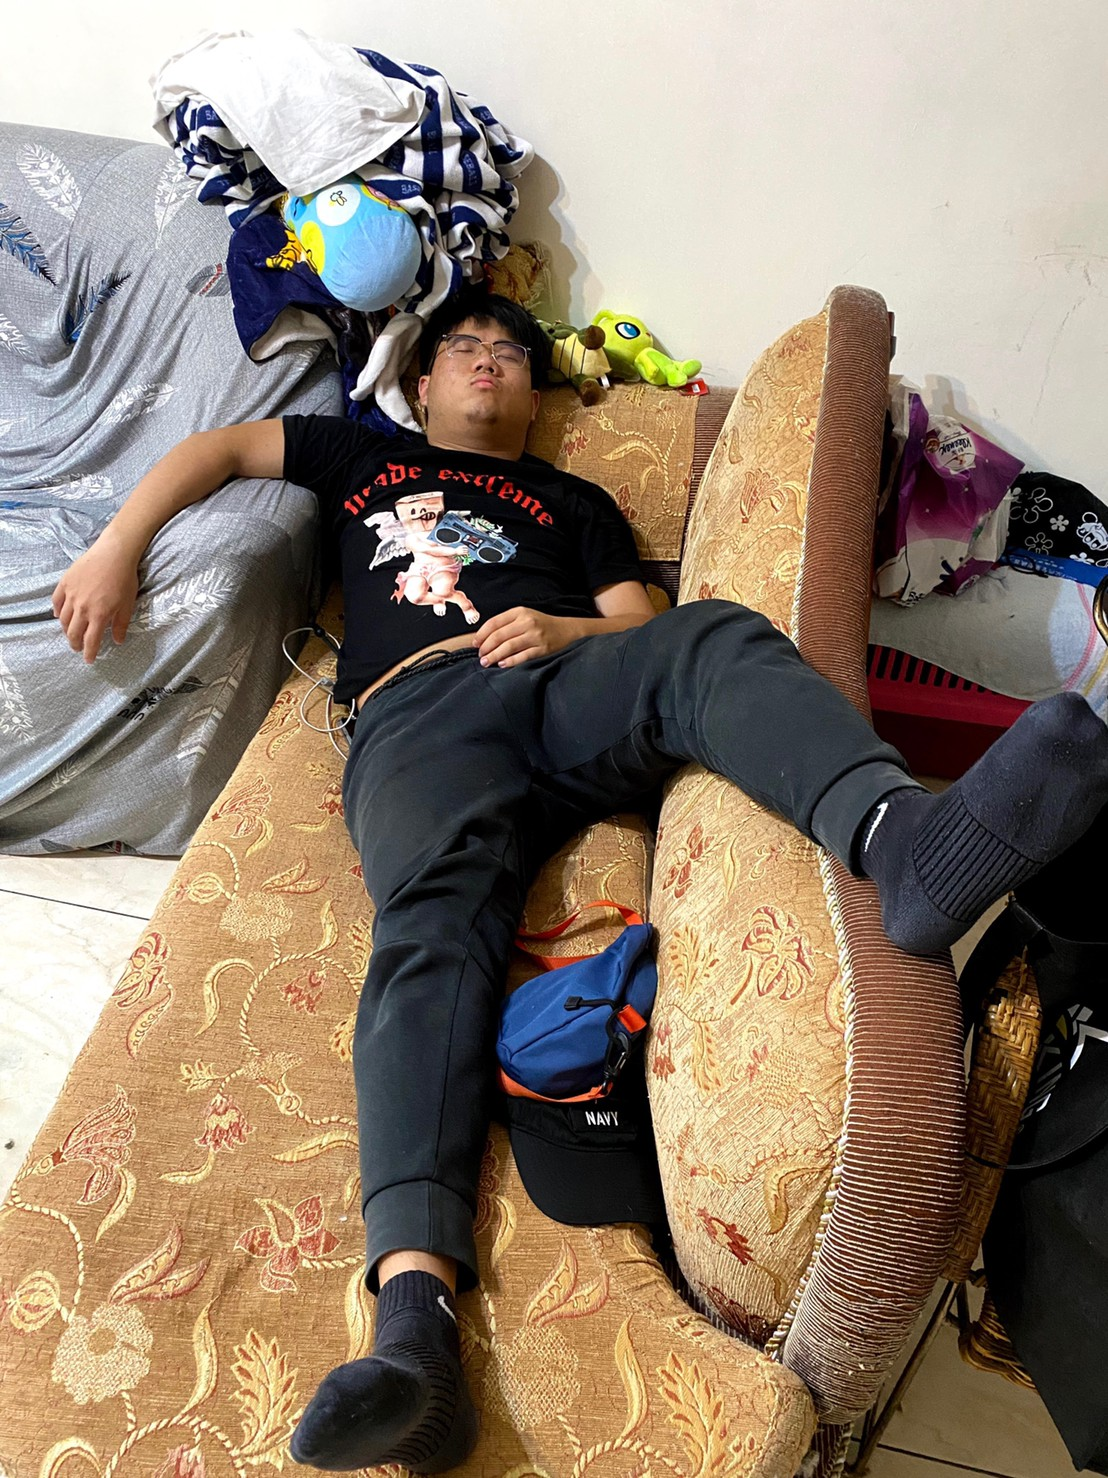people: (319, 297, 617, 1443)
